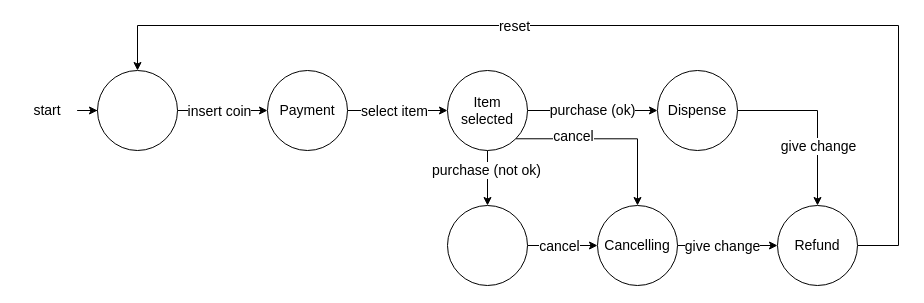
Some shapes in this 924 by 303 pixel diagram are drawn without their labels. Each missing label, with the centre of its shape:
Error: point (487, 245)
Waiting: point (137, 110)
